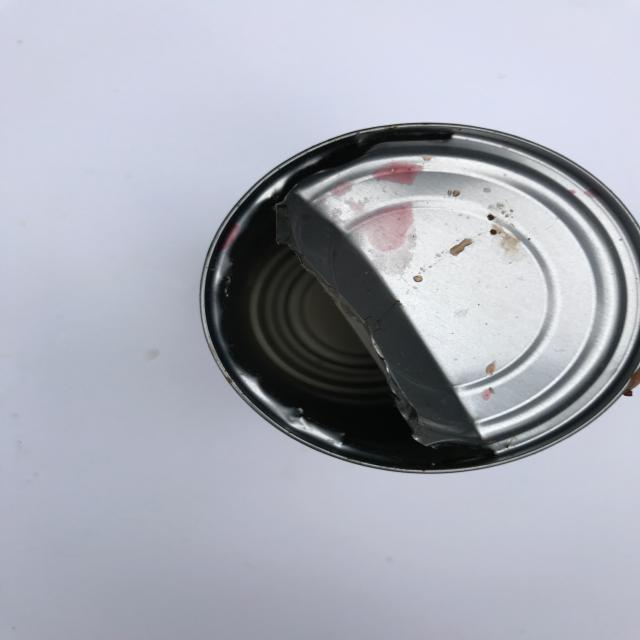metal: (191, 118, 640, 478)
